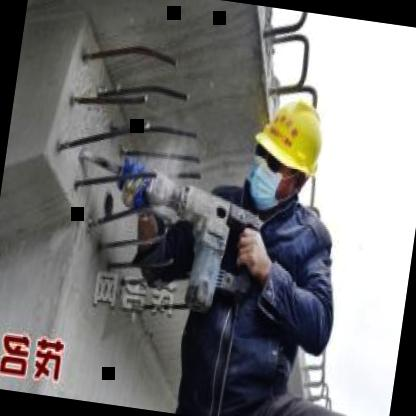helmet: (242, 79, 337, 220)
